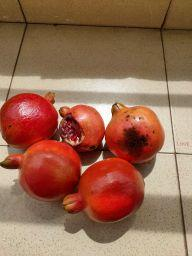pomegranate: (63, 157, 146, 223), (0, 140, 81, 201), (105, 101, 165, 165), (0, 90, 59, 148), (60, 104, 105, 154)
